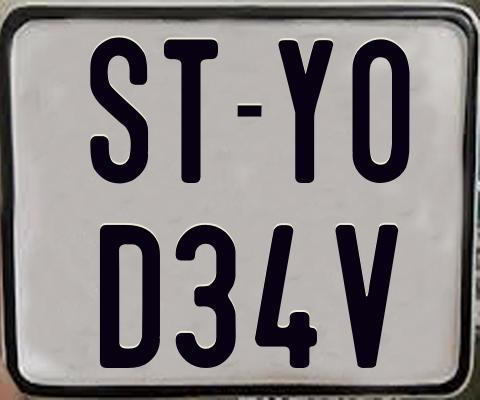0: (349, 38, 413, 182)
3: (173, 224, 234, 373)
4: (255, 225, 319, 368)
D: (98, 223, 159, 372)
S: (90, 37, 152, 189)
T: (161, 39, 221, 186)
V: (333, 222, 401, 369)
Y: (277, 38, 337, 181)
